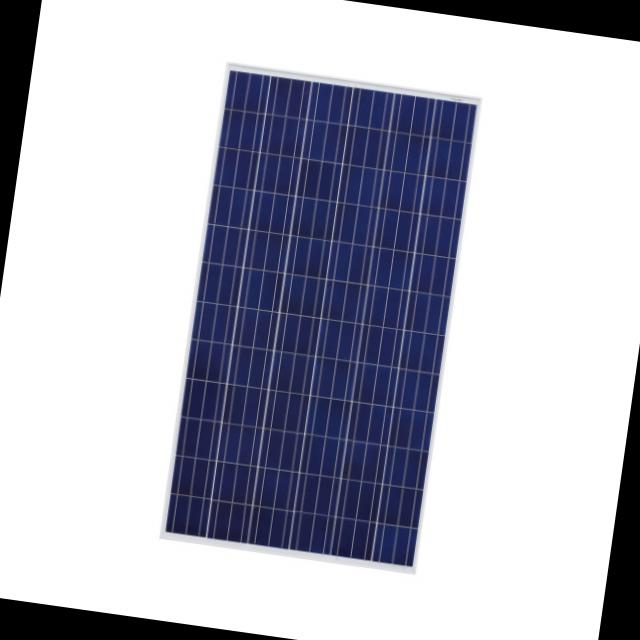no faulty: (163, 72, 478, 560)
